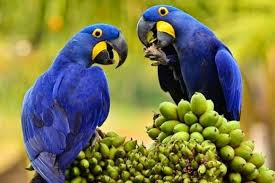guacamaya: (18, 21, 129, 183), (133, 3, 257, 122)
